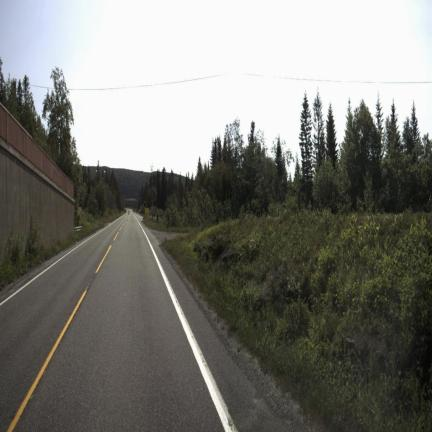Road: (0, 211, 287, 430)
